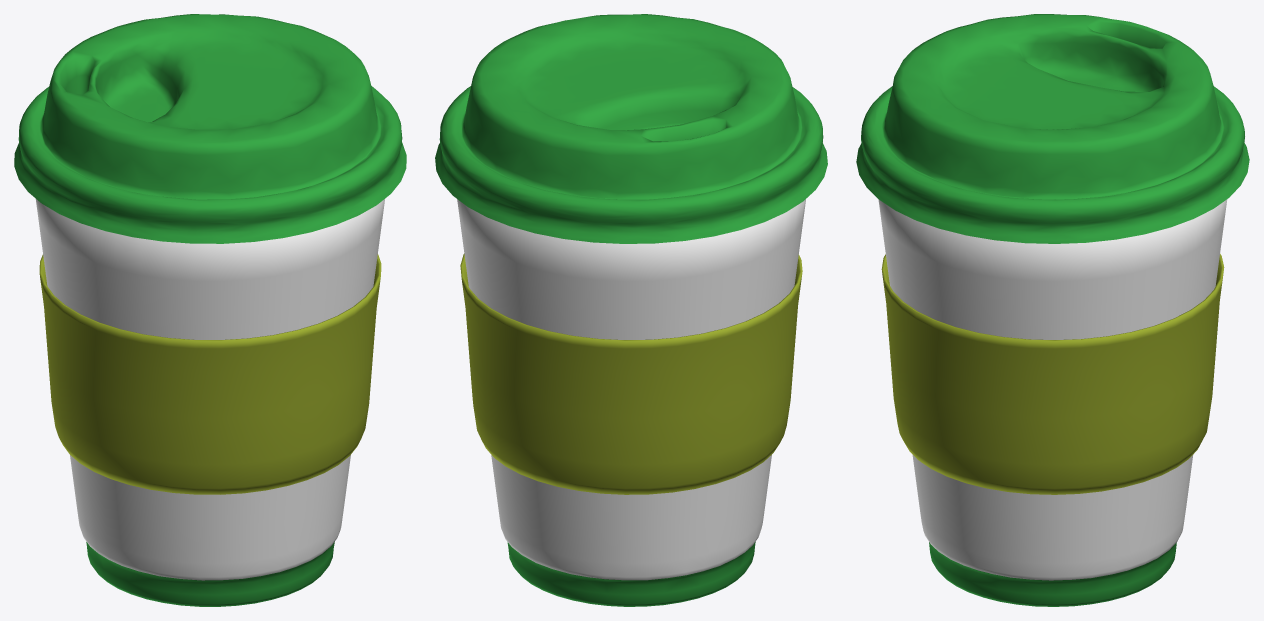
The model's file is Cup.fbx.
3 views of the same model, side by side, from view 1: azimuth 30°, elevation 25°; view 2: azimuth 150°, elevation 25°; view 3: azimuth 270°, elevation 25° (orthographic).
Parts seen in each view (by area): view 1: Cap.002, Cup.001, Cardboard.002; view 2: Cap.002, Cup.001, Cardboard.002; view 3: Cap.002, Cup.001, Cardboard.002.
Boxes of the visible parts, x1,y1,x2,y2 form: Cap.002: (14,14,406,243); Cup.001: (35,199,384,606); Cardboard.002: (39,254,381,494); Cap.002: (435,14,827,243); Cup.001: (457,199,805,606); Cardboard.002: (460,253,802,494); Cap.002: (856,14,1249,243); Cup.001: (878,199,1227,606); Cardboard.002: (881,253,1224,494).
Bounding box in the file's own units: 0.2343 × 0.3143 × 0.2343.
